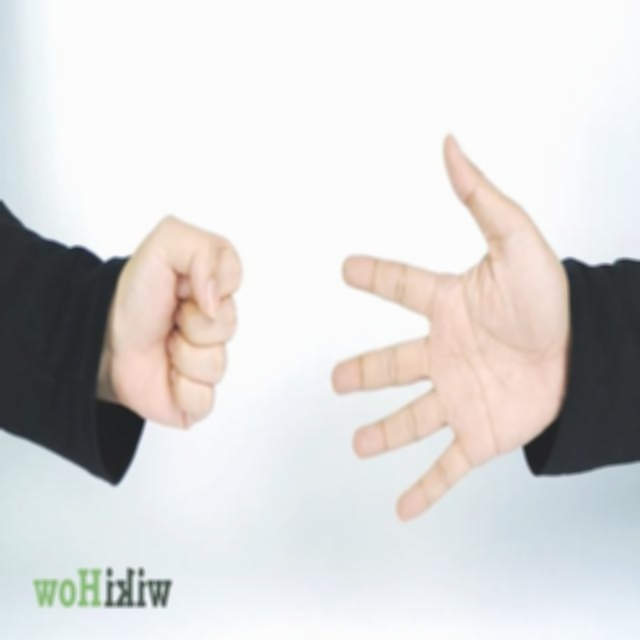Paper: (330, 133, 570, 522)
Rock: (108, 212, 243, 435)
